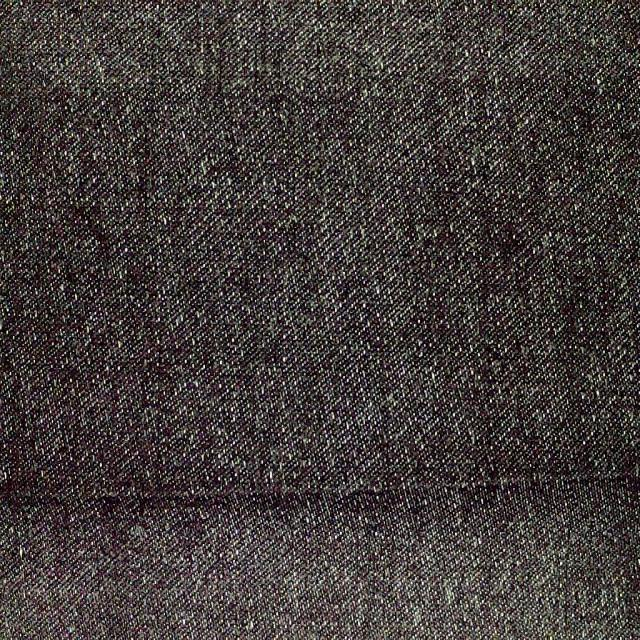Line: (0, 459, 640, 506)
